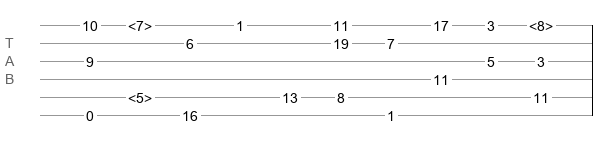0: (86, 108, 94, 118)
1: (236, 18, 244, 28), (387, 108, 395, 118)
10: (82, 18, 98, 28)
11: (333, 18, 349, 28), (433, 72, 449, 82), (533, 90, 549, 100)
13: (282, 90, 298, 100)
16: (182, 108, 198, 118)
17: (433, 18, 449, 28)
19: (333, 36, 349, 46)
3: (487, 18, 495, 28), (537, 54, 545, 64)
5: (487, 54, 495, 64)
6: (186, 36, 194, 46)
7: (387, 36, 395, 46)
8: (337, 90, 345, 100)
9: (86, 54, 94, 64)
harmonic: (128, 90, 152, 100), (128, 18, 152, 28), (529, 18, 553, 28)
